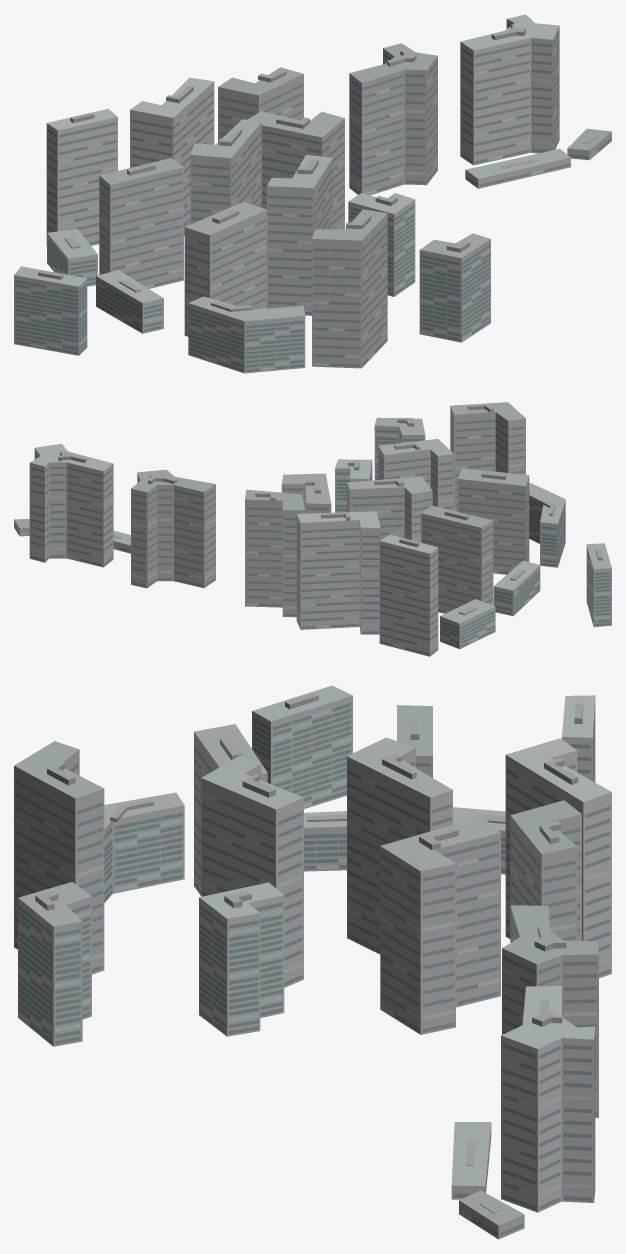
The model's file is apt-a10025070.glb.
The picture shows the model from 3 angles, top to bottom: view 1: azimuth 30°, elevation 25°; view 2: azimuth 150°, elevation 25°; view 3: azimuth 270°, elevation 25°; orthographic projection. The views are drawn at different scales.
Parts seen in each view (by area): view 1: apt-a10025070; view 2: apt-a10025070; view 3: apt-a10025070.
Boxes of the visible parts, left/top/right/bottom form: apt-a10025070: left=14, top=14, right=611, bottom=373; apt-a10025070: left=14, top=402, right=611, bottom=656; apt-a10025070: left=14, top=685, right=611, bottom=1239.
Size of the model in its own units: 428 by 82 by 237.
